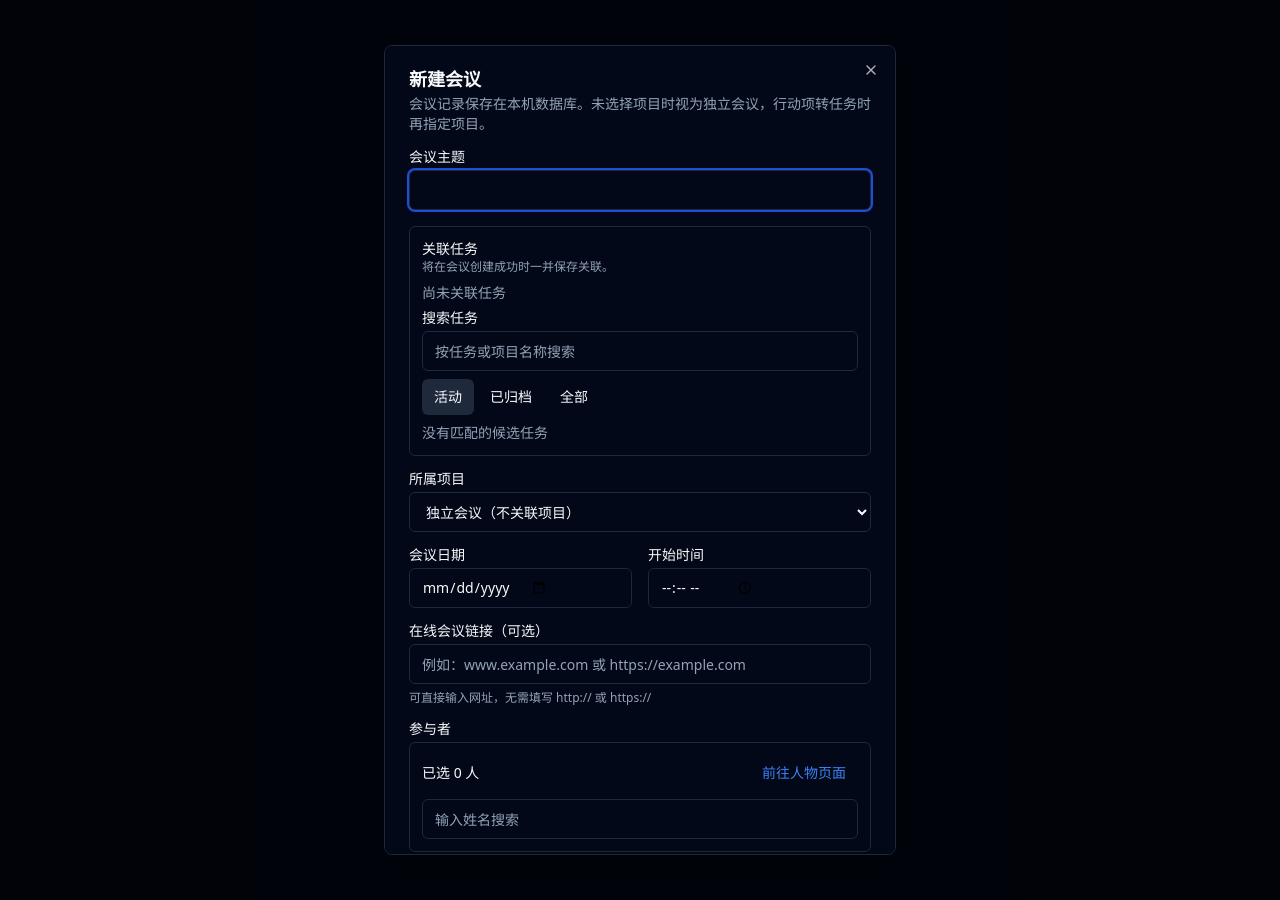
Test case: MeetingForm › keeps the dialog open and shows the service error when the write fails
This screenshot has width=1280, height=900.
Type "双周评审" into the field labelled "会议主题" at (640, 190), box [409,170,871,210]
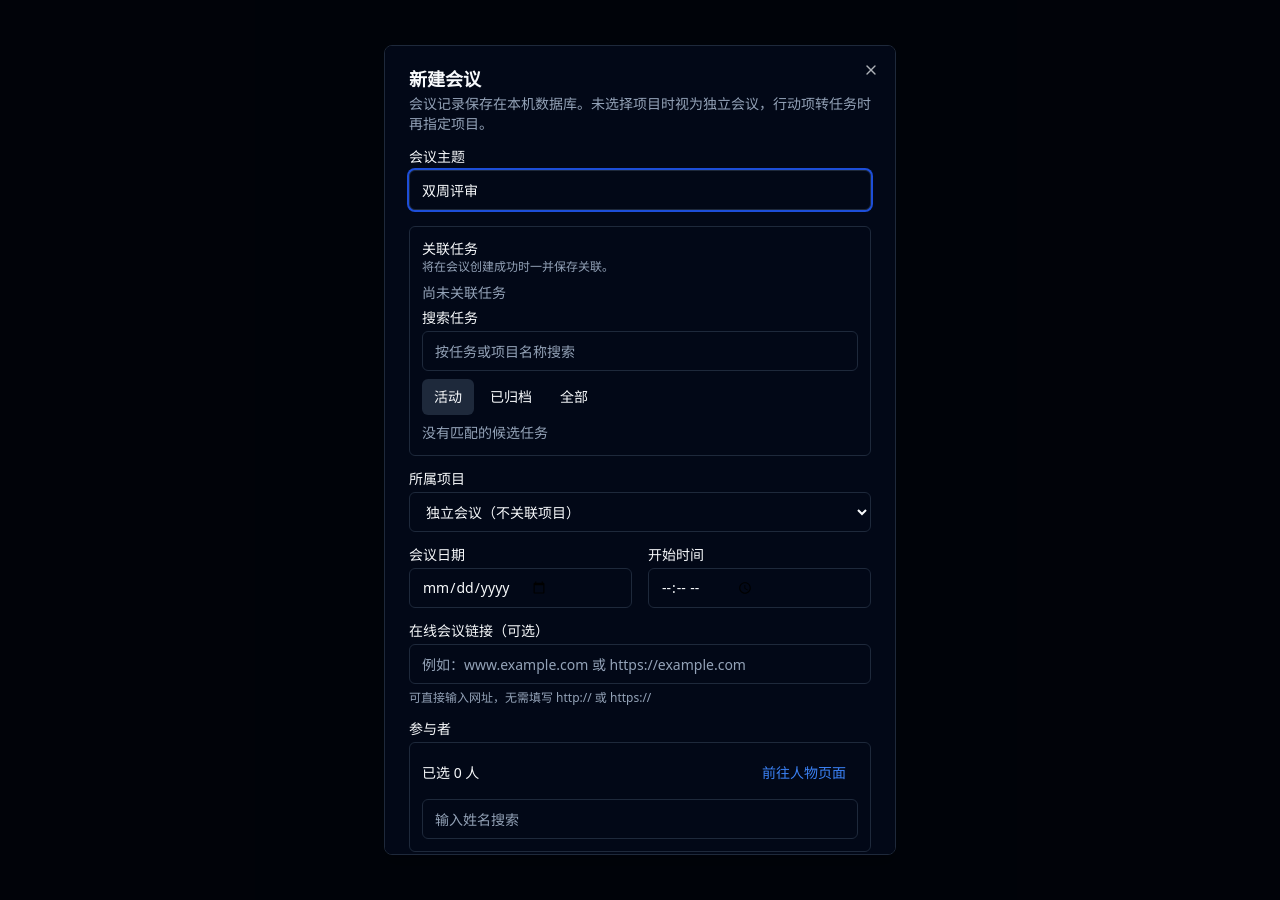
Type "2026-07-20" into the date field labelled "会议日期" at (520, 588), box [409,568,632,608]
(page scrolled)
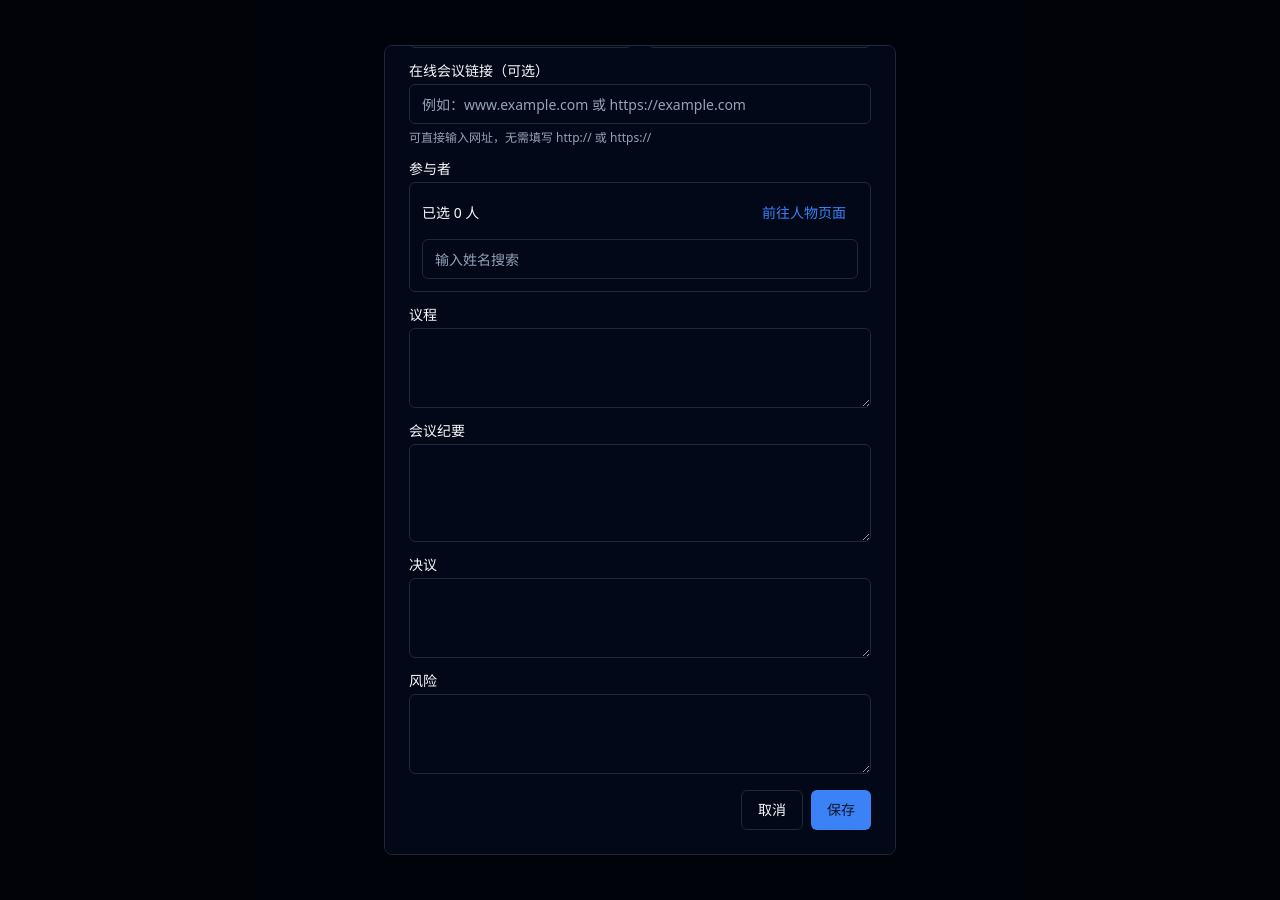
Click the button "保存" at (841, 810), box [811,790,871,830]
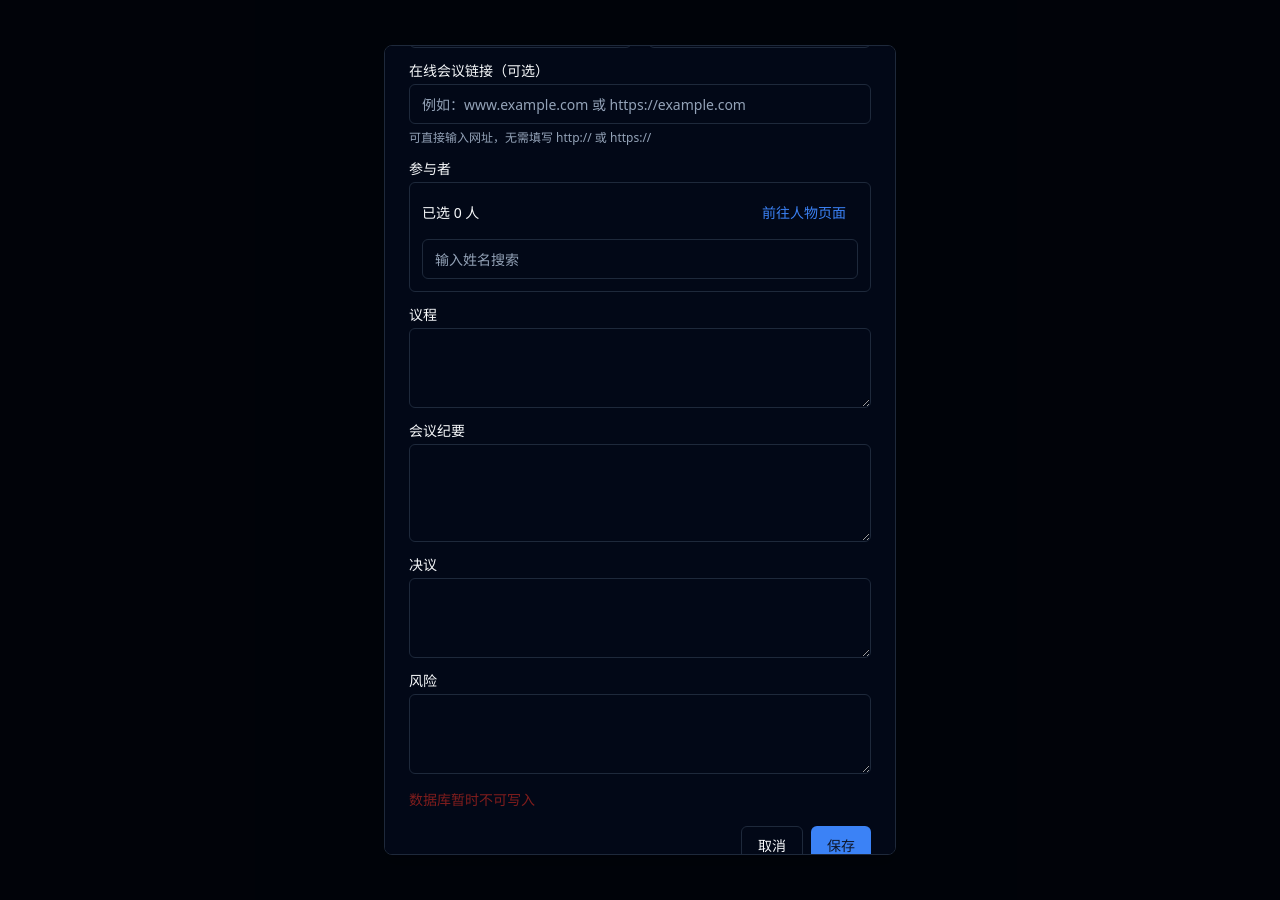
Expected: the dialog is shown, [384,45,896,855]
Now the text "数据库暂时不可写入" is shown, box [409,790,535,809]
